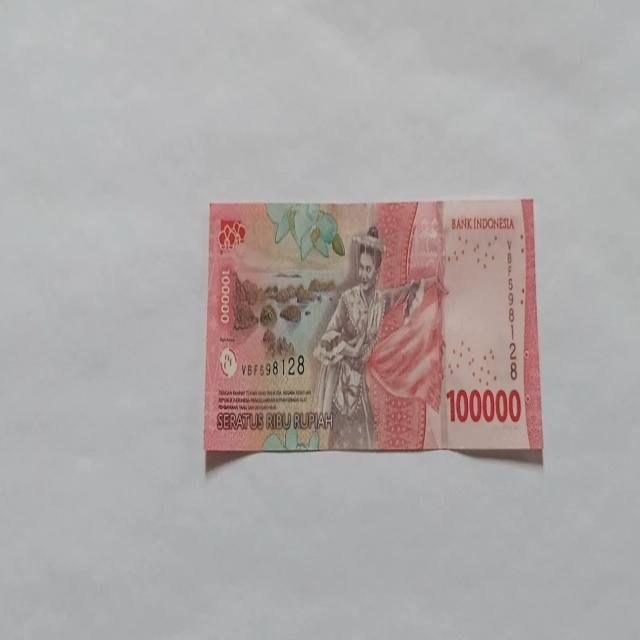seratus ribu rupiah: (203, 198, 543, 457), (309, 225, 426, 450)
